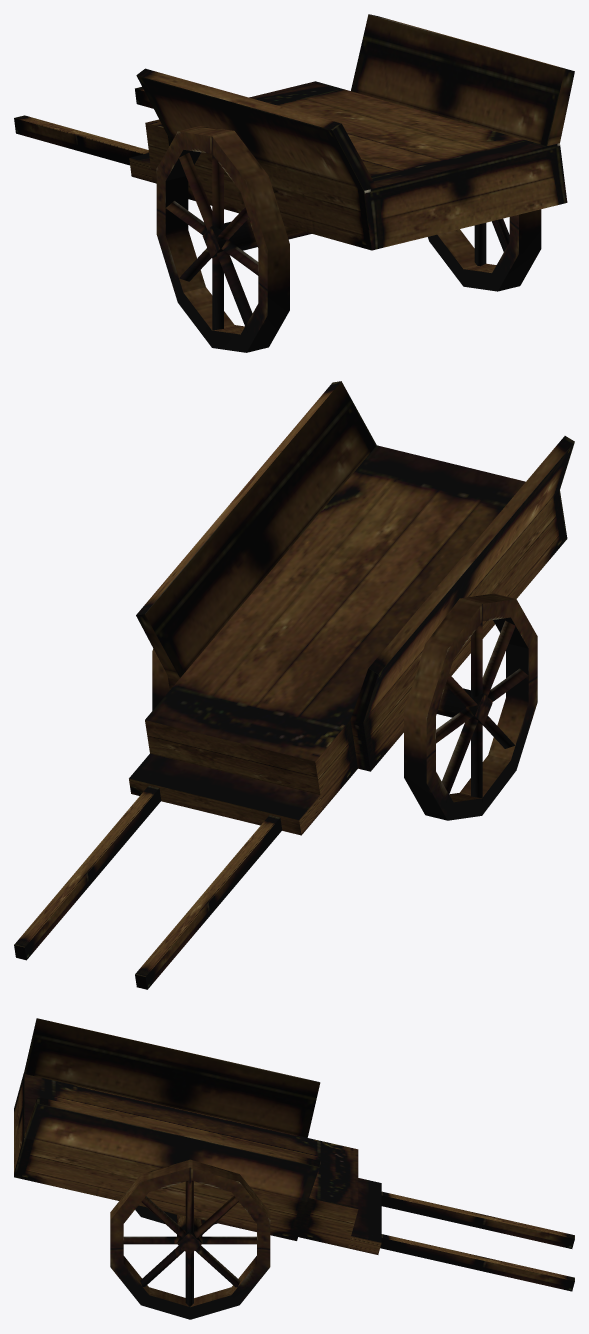
The model's file is Carriage02.obj.
3 renders of one model, top to bottom at view 1: azimuth 30°, elevation 25°; view 2: azimuth 150°, elevation 25°; view 3: azimuth 270°, elevation 25°, orthographic. The views are drawn at different scales.
Visible parts, largest first — view 1: Mesh_0; view 2: Mesh_0; view 3: Mesh_0.
Boxes of the visible parts, x1,y1,x2,y2 form: Mesh_0: [14, 14, 574, 352]; Mesh_0: [14, 381, 574, 989]; Mesh_0: [14, 1018, 574, 1319].
Size of the model in its own units: 1.79 by 1.83 by 4.37.
Materials: 1 (1 with a texture image).
